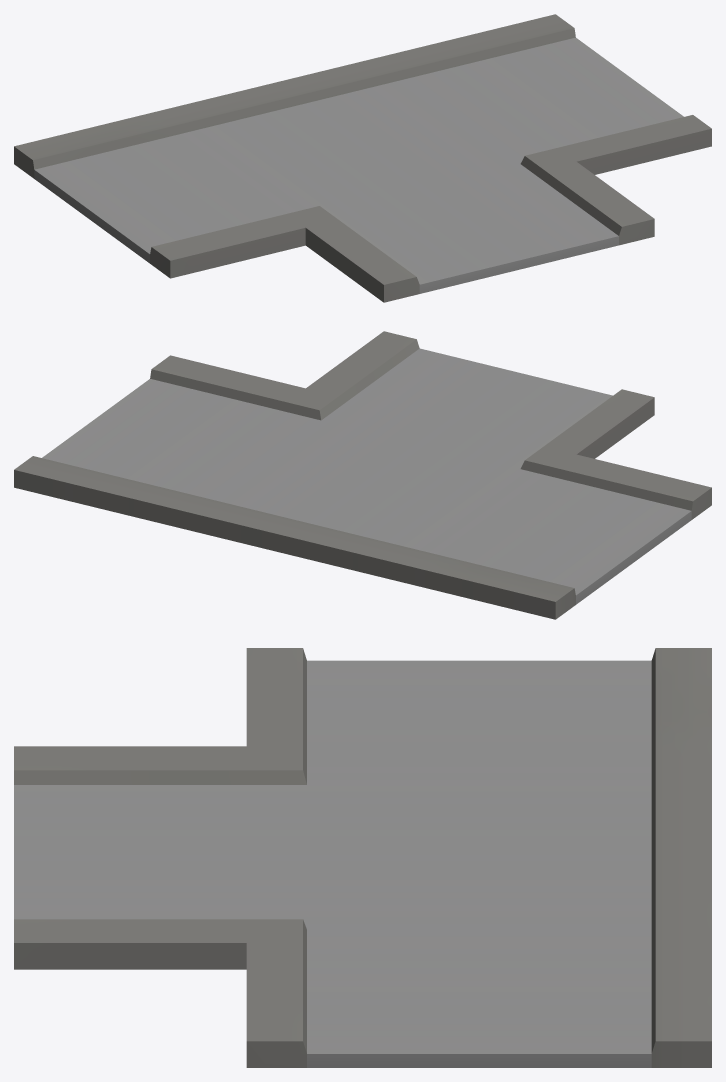
Rendered from halfCrossPavement 1.fbx.
3 renders of one model, top to bottom at view 1: azimuth 30°, elevation 25°; view 2: azimuth 150°, elevation 25°; view 3: azimuth 270°, elevation 25°, orthographic. The views are drawn at different scales.
Visible parts, largest first — view 1: halfCrossPavement; view 2: halfCrossPavement; view 3: halfCrossPavement.
Boxes of the visible parts, x1,y1,x2,y2 form: halfCrossPavement: [14, 14, 711, 302]; halfCrossPavement: [14, 331, 711, 619]; halfCrossPavement: [14, 648, 711, 1067].
Size of the model in its own units: 200 by 6.28 by 150.
Materials: 1 (1 with a texture image).
